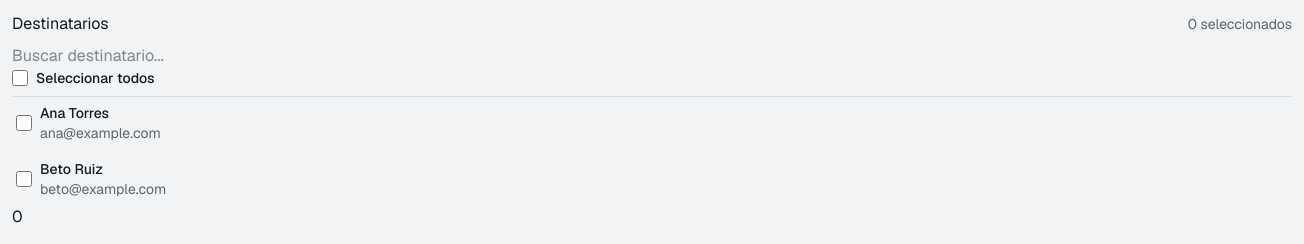
FormRecipientSelect › selects and deselects every option via 'Seleccionar todos'
The width and height of the screenshot is (1304, 244).
Click the checkbox labelled "Seleccionar todos": [20, 78] box [12,70,28,86]
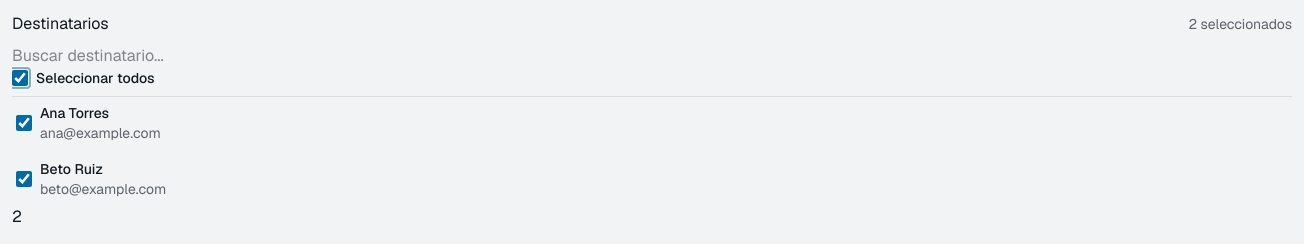
Expected: the text with test id "count" reads "2", [12,206,22,227]
Expected: the text "2 seleccionados" is shown, [1188,14,1292,34]
Click the checkbox labelled "Seleccionar todos": [20, 78] box [12,70,28,86]
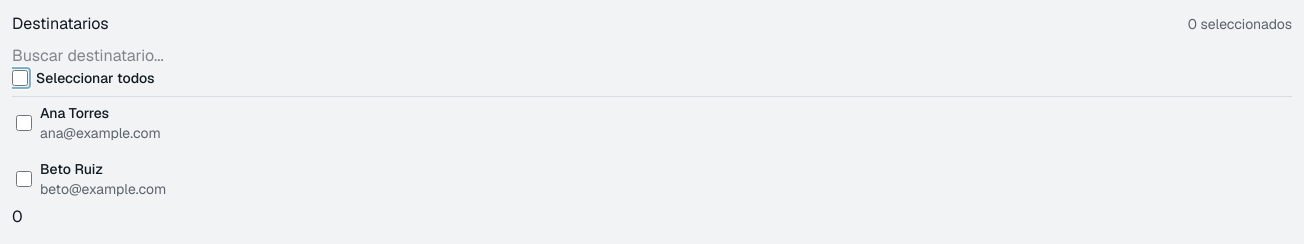
Expected: the text with test id "count" reads "0", [12,206,23,227]
Expected: the text "0 seleccionados" is shown, [1188,14,1292,34]
